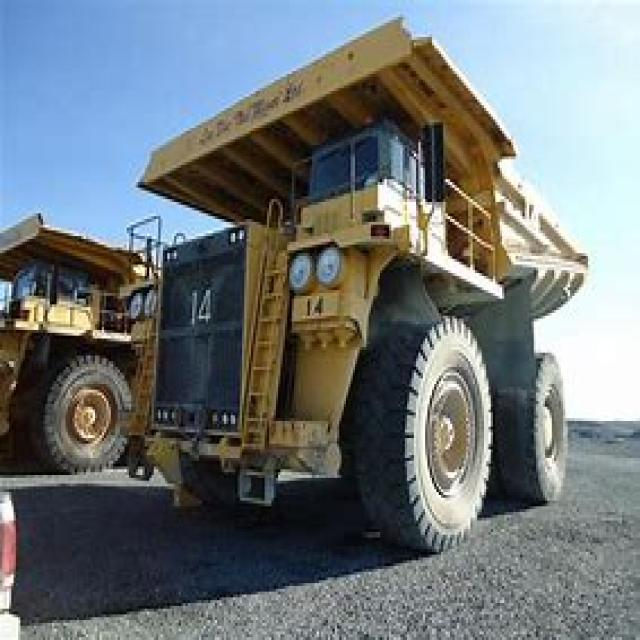dump_truck: (109, 9, 586, 546)
